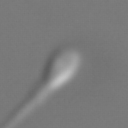normal: (2, 83, 49, 128)
